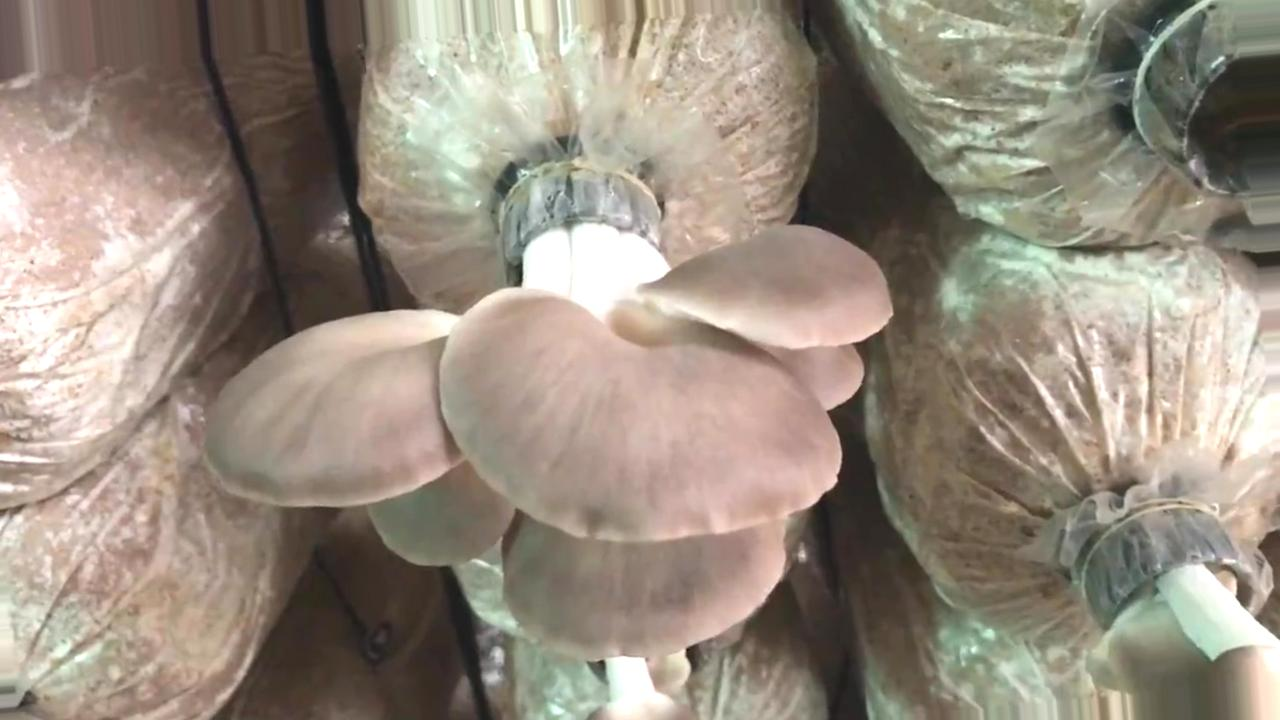nam: (204, 167, 892, 658), (1086, 506, 1280, 720), (591, 648, 694, 719)
